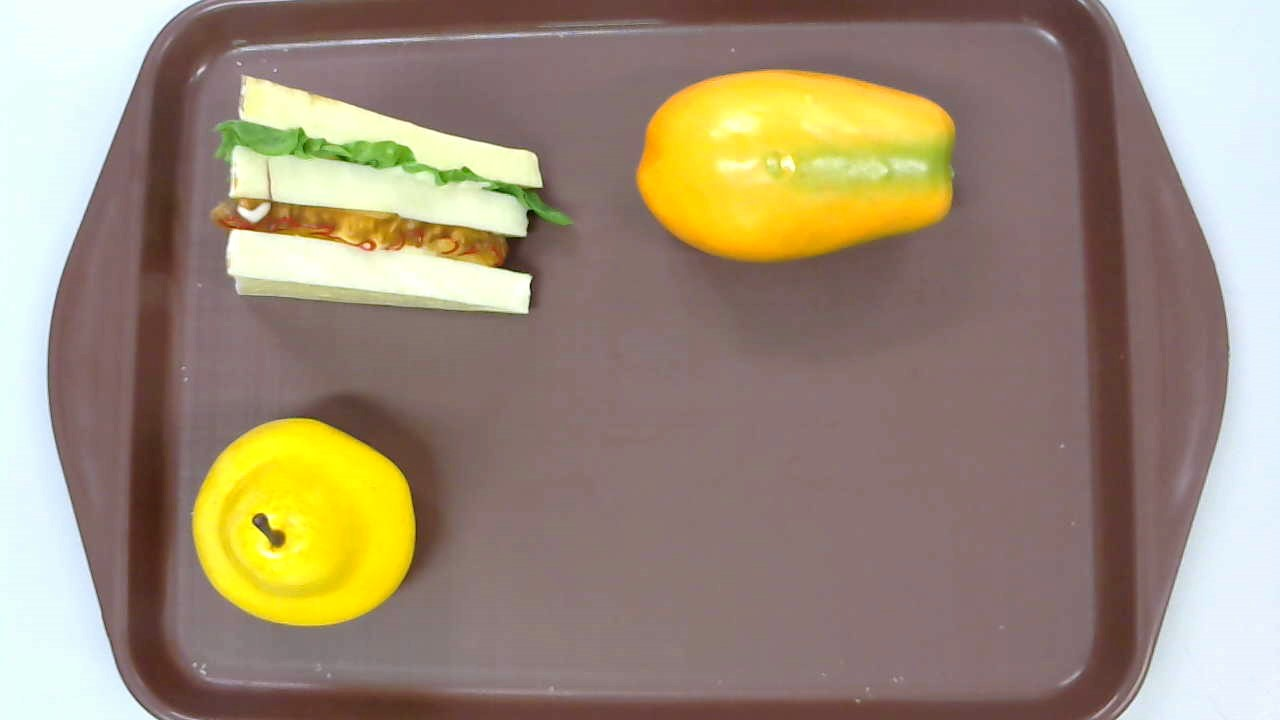papaya: (633, 68, 956, 265)
sandwich: (210, 74, 572, 319)
yellow pear: (191, 415, 416, 627)
